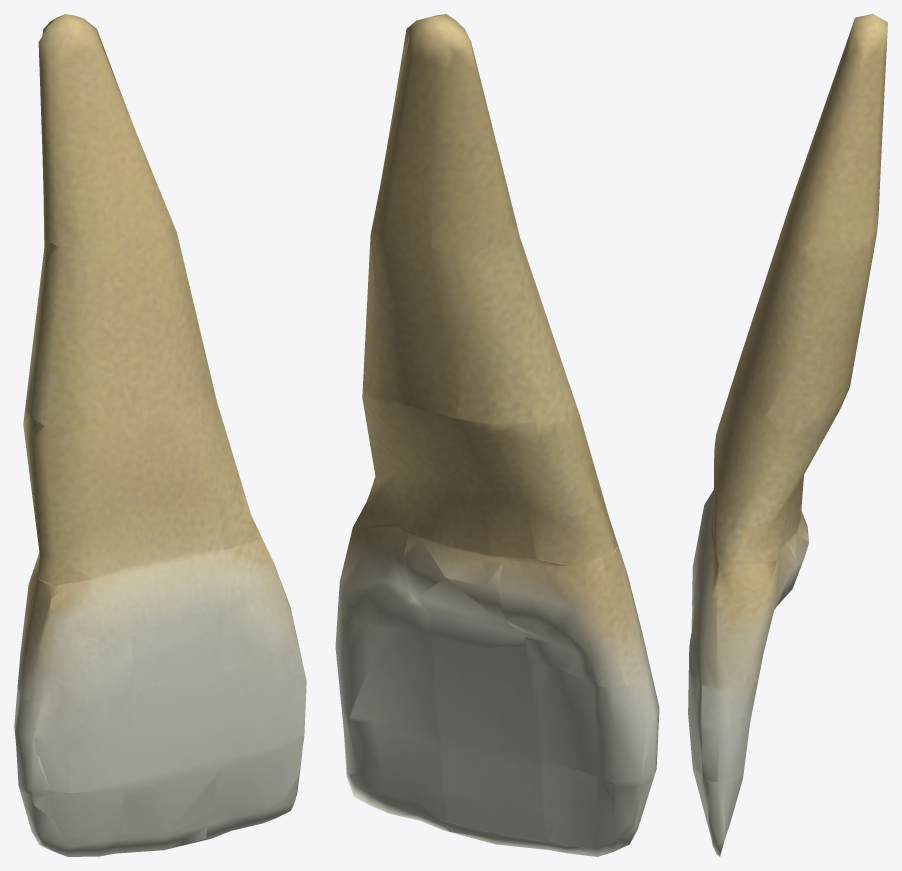
Rendered from Left_Upper_Central_Incisor.glb.
The picture shows the model from 3 angles, left to right: view 1: azimuth 30°, elevation 25°; view 2: azimuth 150°, elevation 25°; view 3: azimuth 270°, elevation 25°; orthographic projection. The views are drawn at different scales.
Parts seen in each view (by area): view 1: human_teeth_upper_central_incisor_geo.029; view 2: human_teeth_upper_central_incisor_geo.029; view 3: human_teeth_upper_central_incisor_geo.029.
Part boxes in pixels (<box>): human_teeth_upper_central_incisor_geo.029: <box>14,14,306,856</box>; human_teeth_upper_central_incisor_geo.029: <box>335,14,659,856</box>; human_teeth_upper_central_incisor_geo.029: <box>688,14,887,856</box>.
Size of the model in its own units: 1.25 by 3.31 by 0.7705.
30 materials, 30 textured.
